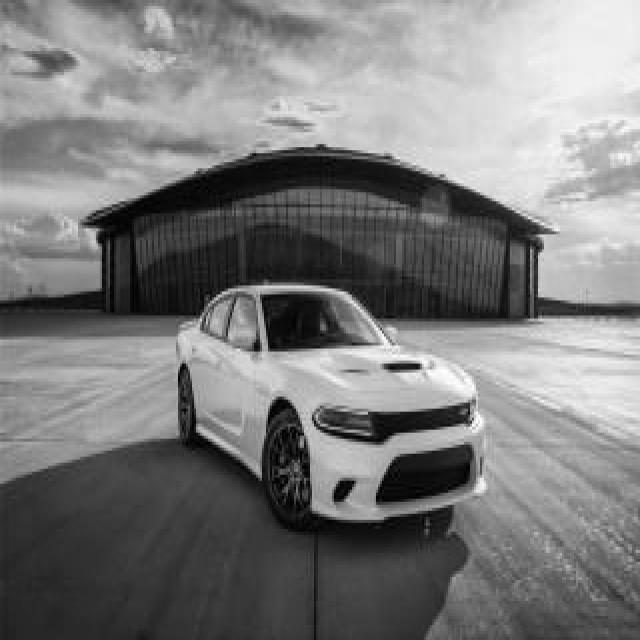Car: (176, 287, 484, 529)
